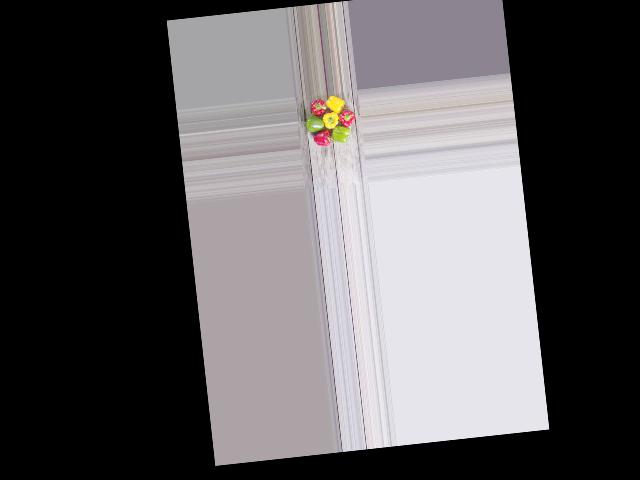bell_pepper: (309, 94, 330, 116)
